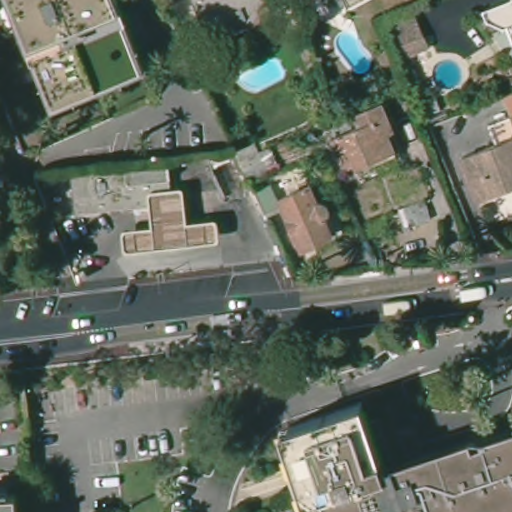pool: (233, 58, 288, 93), (330, 32, 374, 75), (429, 57, 465, 92)
